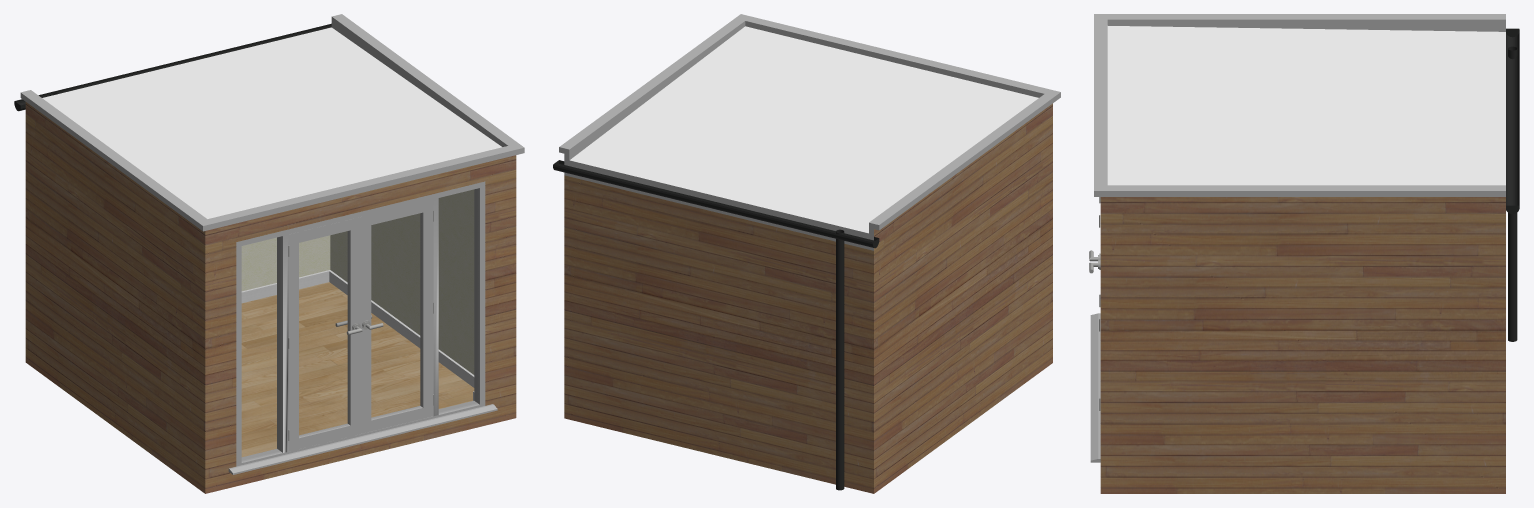
The model's file is bu3-tgrg-7-hd-3m-x-3m-cube-with-french-doors.obj.
The picture shows the model from 3 angles, left to right: view 1: azimuth 30°, elevation 25°; view 2: azimuth 150°, elevation 25°; view 3: azimuth 270°, elevation 25°; orthographic projection. The views are drawn at different scales.
Visible parts, largest first — view 1: cladding, roof, metal, floor, interior_walls, skirting_board, gutter_and_floor; view 2: cladding, roof, metal, gutter_and_floor; view 3: cladding, roof, metal, gutter_and_floor.
Boxes of the visible parts, x1,y1,x2,y2 form: cladding: (25,102,516,493); roof: (42,27,501,218); metal: (20,14,524,474); floor: (241,282,474,456); interior_walls: (241,189,474,374); skirting_board: (241,270,474,400); gutter_and_floor: (14,23,331,111); cladding: (564,103,1052,493); roof: (570,26,1038,233); metal: (559,14,1060,250); gutter_and_floor: (553,160,879,490); cladding: (1100,197,1505,493); roof: (1107,26,1505,185); metal: (1090,14,1505,462); gutter_and_floor: (1506,28,1519,341).
Size of the model in its own units: 3.1 by 2.5 by 3.19.
Materials: 11 (6 with a texture image).
